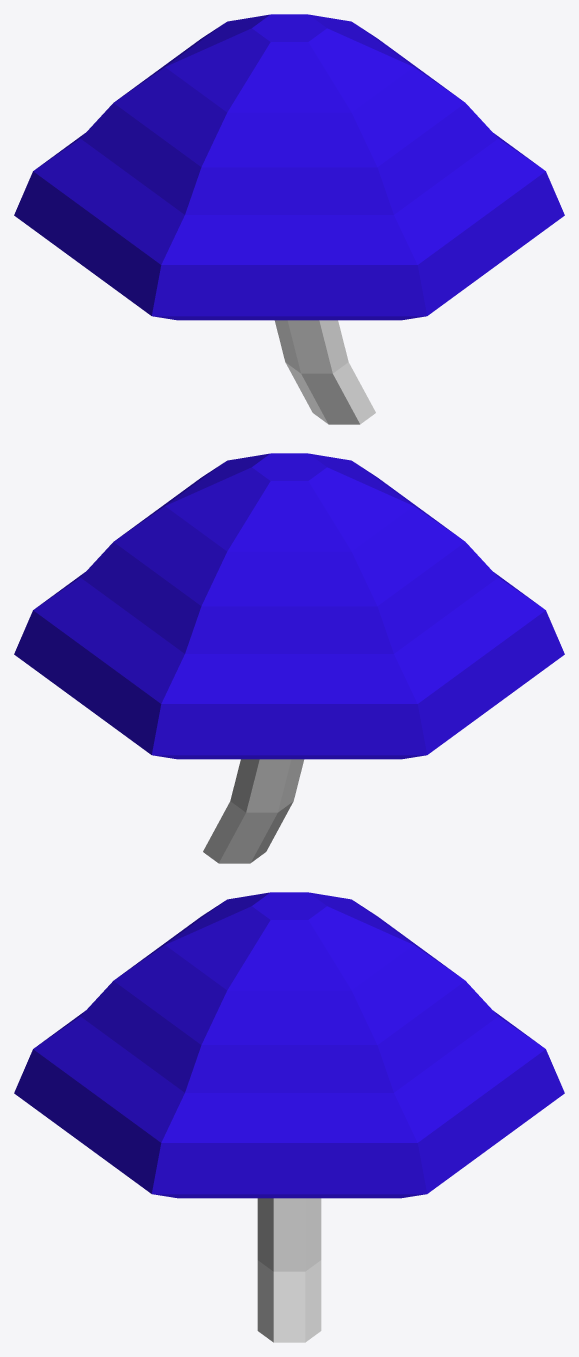
Rendered from Mushroom_02Mini.fbx.
3 views of the same model, one above another, from view 1: azimuth 30°, elevation 25°; view 2: azimuth 150°, elevation 25°; view 3: azimuth 270°, elevation 25° (orthographic).
Parts seen in each view (by area): view 1: Mushroom_02Mini; view 2: Mushroom_02Mini; view 3: Mushroom_02Mini.
Part boxes in pixels (x1,y1,x2,y2): Mushroom_02Mini: (14,14,564,424); Mushroom_02Mini: (14,453,564,863); Mushroom_02Mini: (14,892,564,1342).
Bounding box in the file's own units: 30.08 × 27.69 × 34.73.
